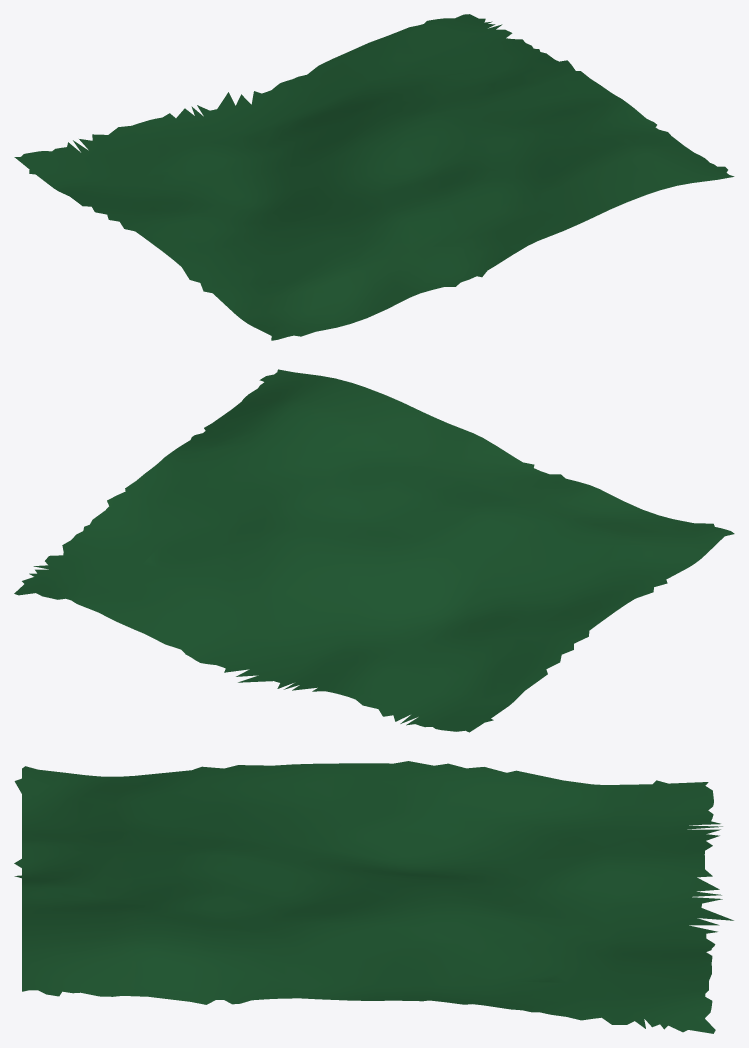
The model's file is payo_land_x3_y3_lod1.glb.
3 renders of one model, top to bottom at view 1: azimuth 30°, elevation 25°; view 2: azimuth 150°, elevation 25°; view 3: azimuth 270°, elevation 25°, orthographic. The views are drawn at different scales.
Visible parts, largest first — view 1: payo_land_x3_y3; view 2: payo_land_x3_y3; view 3: payo_land_x3_y3.
Boxes of the visible parts, box(x1,y1,x2,y2) form: payo_land_x3_y3: box(14, 14, 734, 340); payo_land_x3_y3: box(14, 369, 734, 732); payo_land_x3_y3: box(14, 761, 733, 1033).
Size of the model in its own units: 262 by 41.17 by 268.
